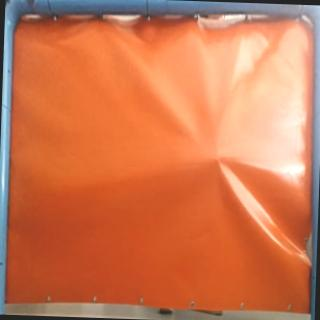Hit-hRxx: (208, 149, 227, 167)
